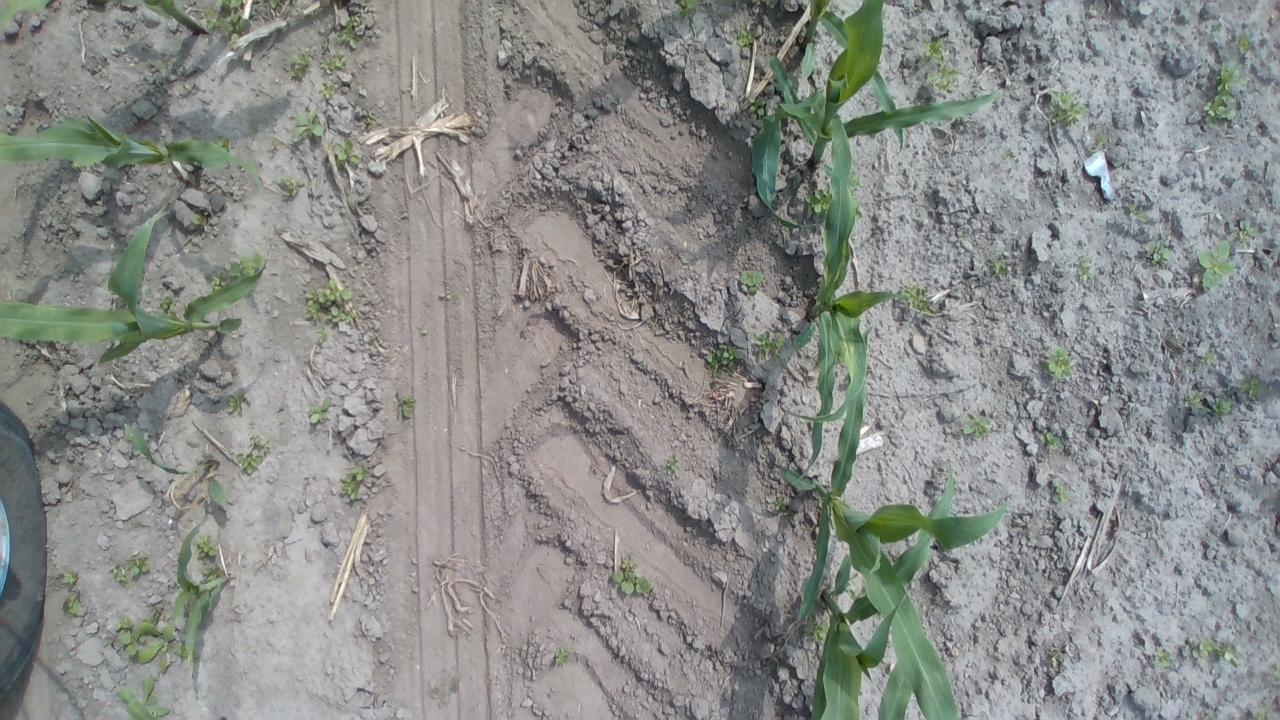Maize: (780, 326, 1010, 720), (751, 0, 1002, 234), (0, 206, 266, 366), (790, 101, 901, 484), (809, 472, 955, 720), (0, 110, 268, 194), (798, 0, 906, 153), (126, 420, 230, 514), (0, 0, 213, 37), (172, 526, 230, 656)
Weeds: (104, 605, 197, 672), (1203, 62, 1253, 126), (302, 278, 356, 324), (116, 674, 168, 720), (922, 36, 962, 94), (199, 0, 251, 44), (232, 430, 274, 476), (1199, 238, 1236, 289), (1048, 87, 1088, 130), (610, 560, 655, 598), (337, 462, 372, 506), (111, 549, 150, 588), (1192, 637, 1237, 669), (704, 344, 744, 376), (896, 280, 930, 317), (1042, 343, 1074, 382), (334, 14, 369, 48), (750, 328, 786, 360), (60, 568, 82, 619), (292, 110, 324, 142), (960, 409, 992, 440), (197, 534, 218, 580), (333, 138, 361, 171), (802, 614, 829, 646), (1143, 238, 1173, 266), (228, 256, 266, 278), (287, 50, 313, 82), (304, 399, 334, 426), (806, 188, 832, 219), (224, 391, 253, 418), (0, 346, 35, 368), (739, 270, 768, 296), (278, 174, 306, 200), (320, 48, 348, 74), (392, 392, 418, 419), (1238, 375, 1266, 400), (160, 294, 182, 322), (1231, 223, 1260, 243), (984, 255, 1008, 279), (737, 22, 759, 48), (1051, 478, 1072, 505), (211, 270, 234, 294), (748, 94, 769, 120), (1210, 396, 1234, 417), (1077, 255, 1095, 282), (846, 575, 864, 601), (554, 643, 573, 667), (774, 496, 792, 521), (1152, 648, 1174, 668), (1040, 430, 1062, 449), (1234, 31, 1250, 55), (677, 0, 698, 18), (318, 82, 339, 100), (1267, 663, 1280, 691), (1184, 389, 1202, 408), (1250, 707, 1276, 720), (664, 453, 680, 474), (1128, 204, 1146, 222), (214, 135, 232, 153), (1049, 646, 1063, 667), (362, 110, 377, 128), (316, 327, 331, 345), (854, 200, 866, 222), (1202, 350, 1218, 366), (190, 212, 208, 226), (1094, 132, 1108, 146), (124, 423, 135, 439), (1200, 710, 1216, 720), (270, 137, 280, 152), (1000, 152, 1014, 162), (438, 290, 452, 300), (852, 174, 861, 187), (269, 0, 280, 10), (959, 232, 968, 240), (142, 456, 150, 464), (1215, 24, 1222, 32), (31, 123, 40, 129)
